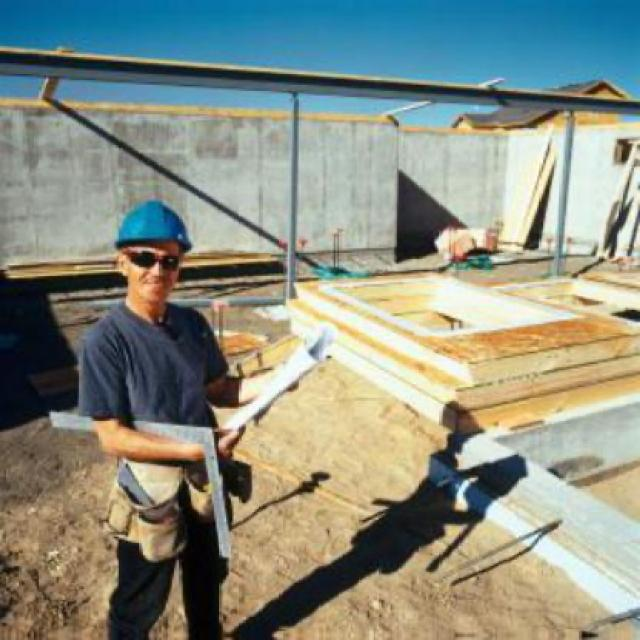helmet: (114, 198, 189, 306)
